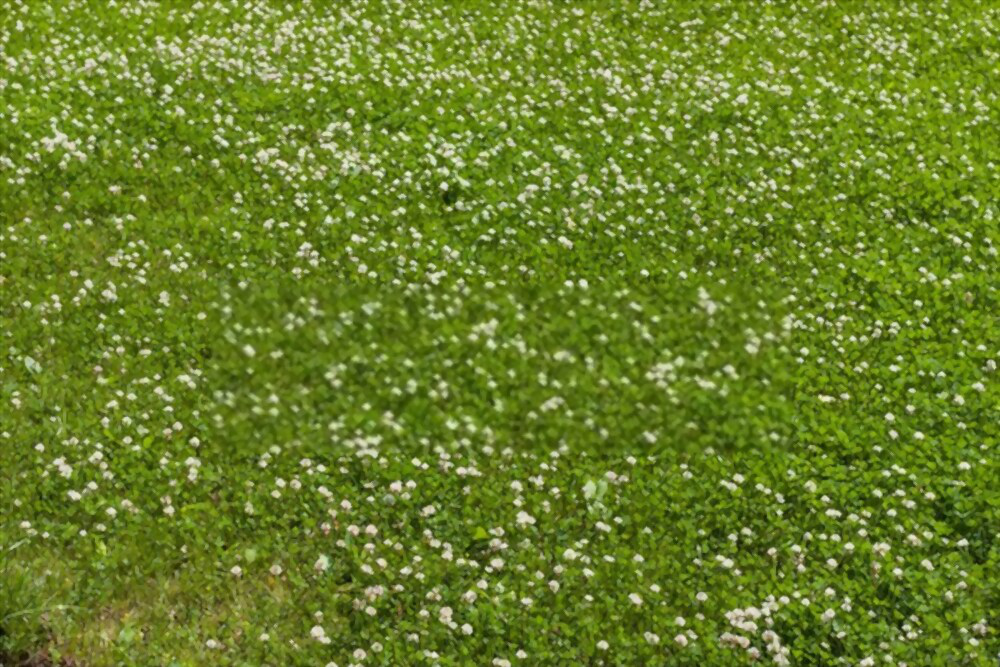clover: (7, 12, 991, 660)
